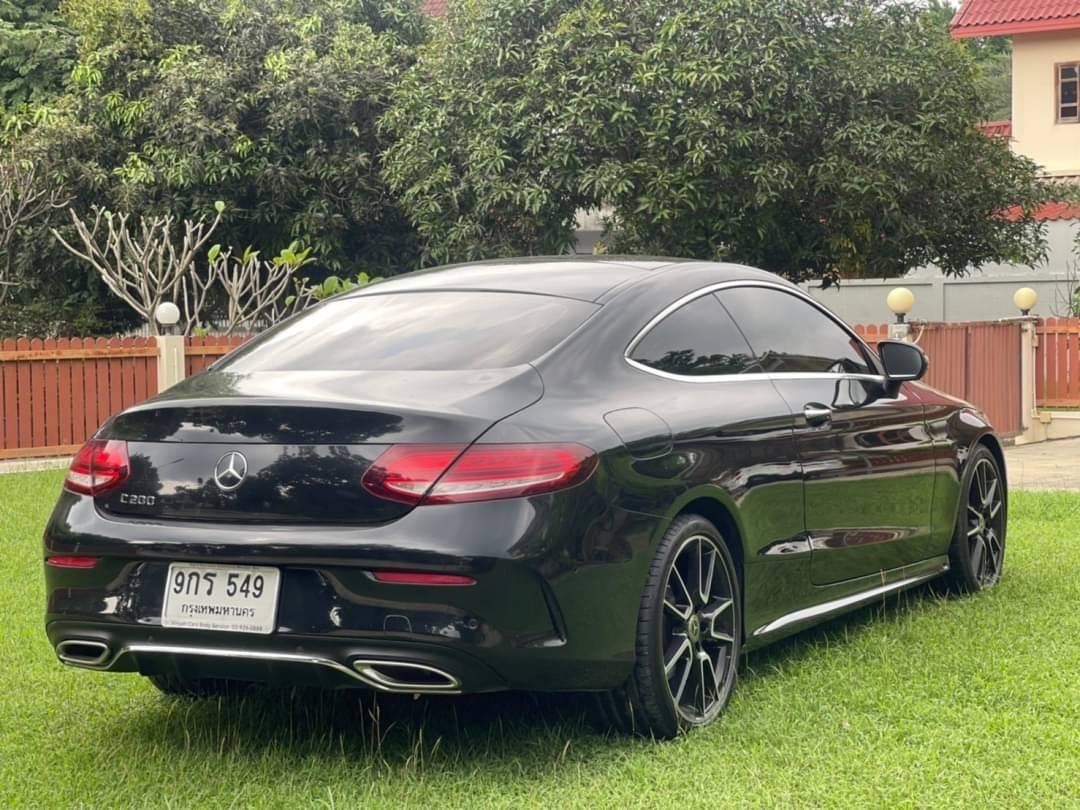license-plate: (158, 558, 279, 635)
